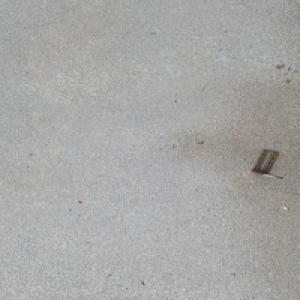MetalPart: (249, 148, 284, 178)
